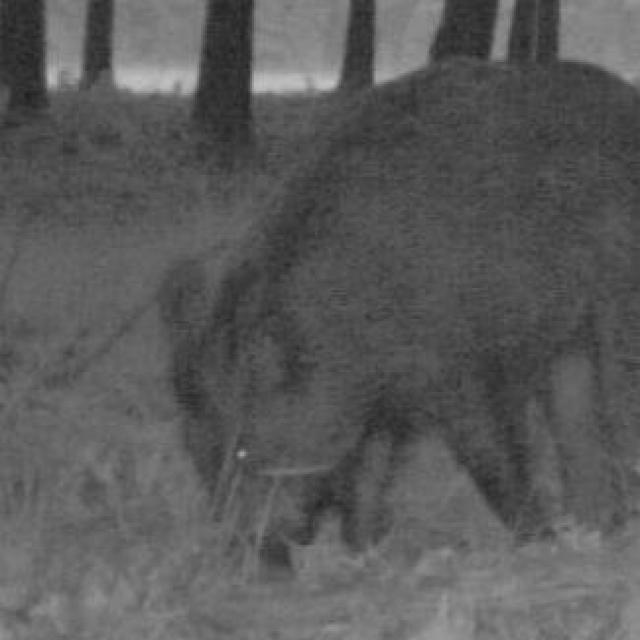pig: (152, 22, 640, 591)
